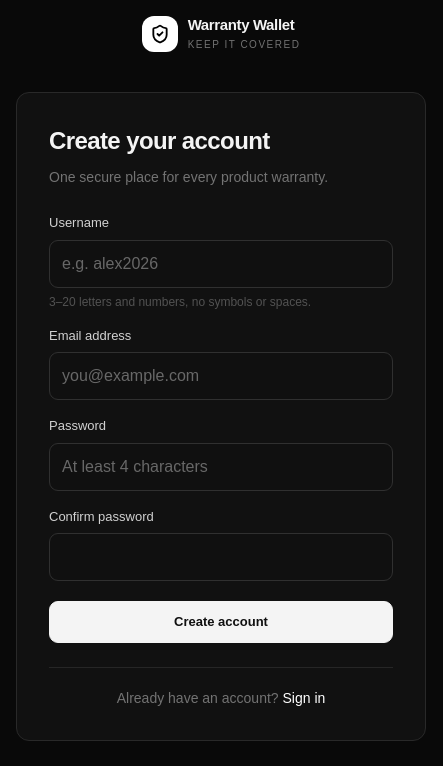
Test case: AuthForm › shows username errors on registration
Step 1. Type "bad_name" into the field labelled "Username" → [221, 264], box [49,240,393,288]
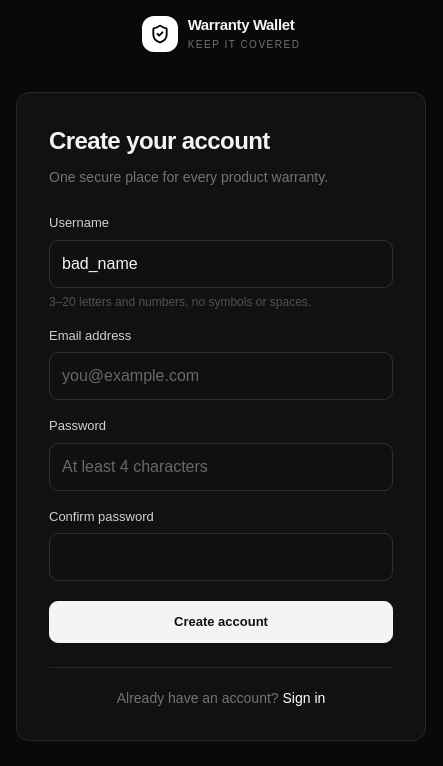
Step 2. Type "x@example.com" into the field labelled "Email address" → [221, 376], box [49,352,393,400]
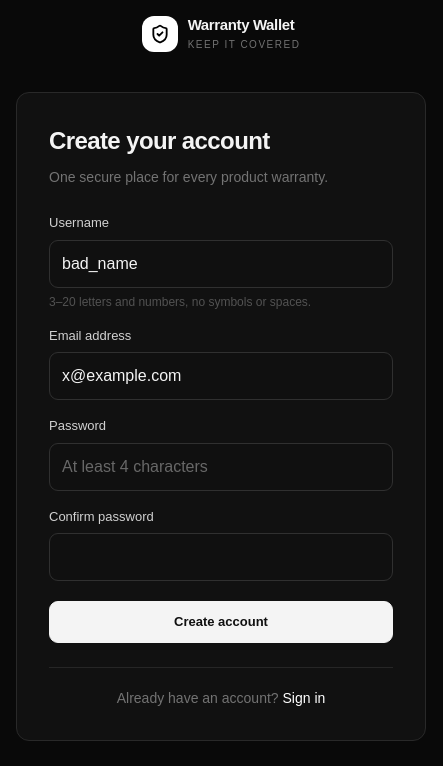
Step 3. Type "pass" into the password field labelled "Password" → [221, 466], box [49,442,393,490]
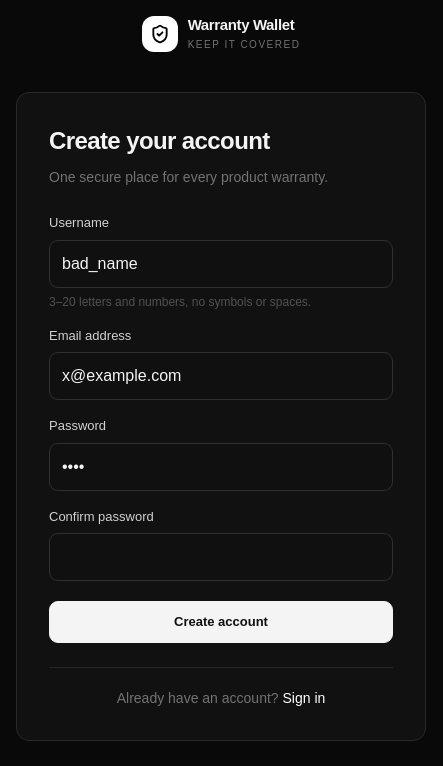
Step 4. Type "pass" into the password field labelled "Confirm password" → [221, 557], box [49,533,393,581]
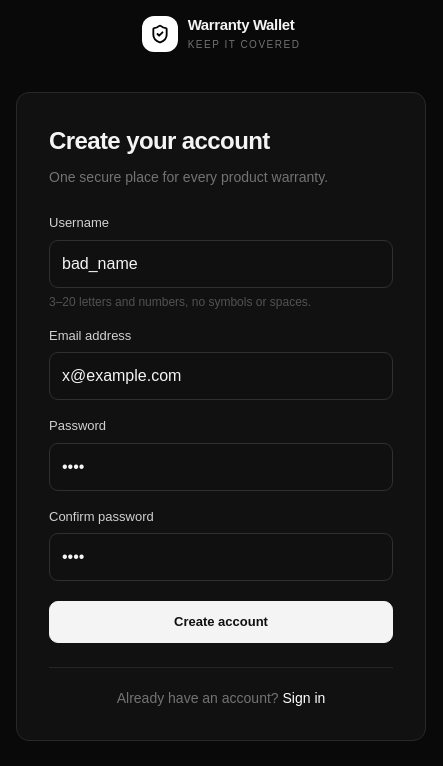
Step 5. Click the button "Create account" → [221, 622], box [49,601,393,642]
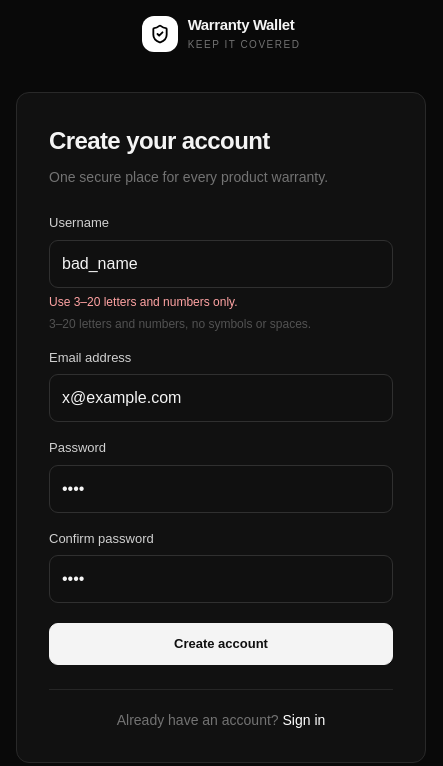
Expected: the text "Use 3–20 letters and numbers only." is shown, [49,294,238,308]
